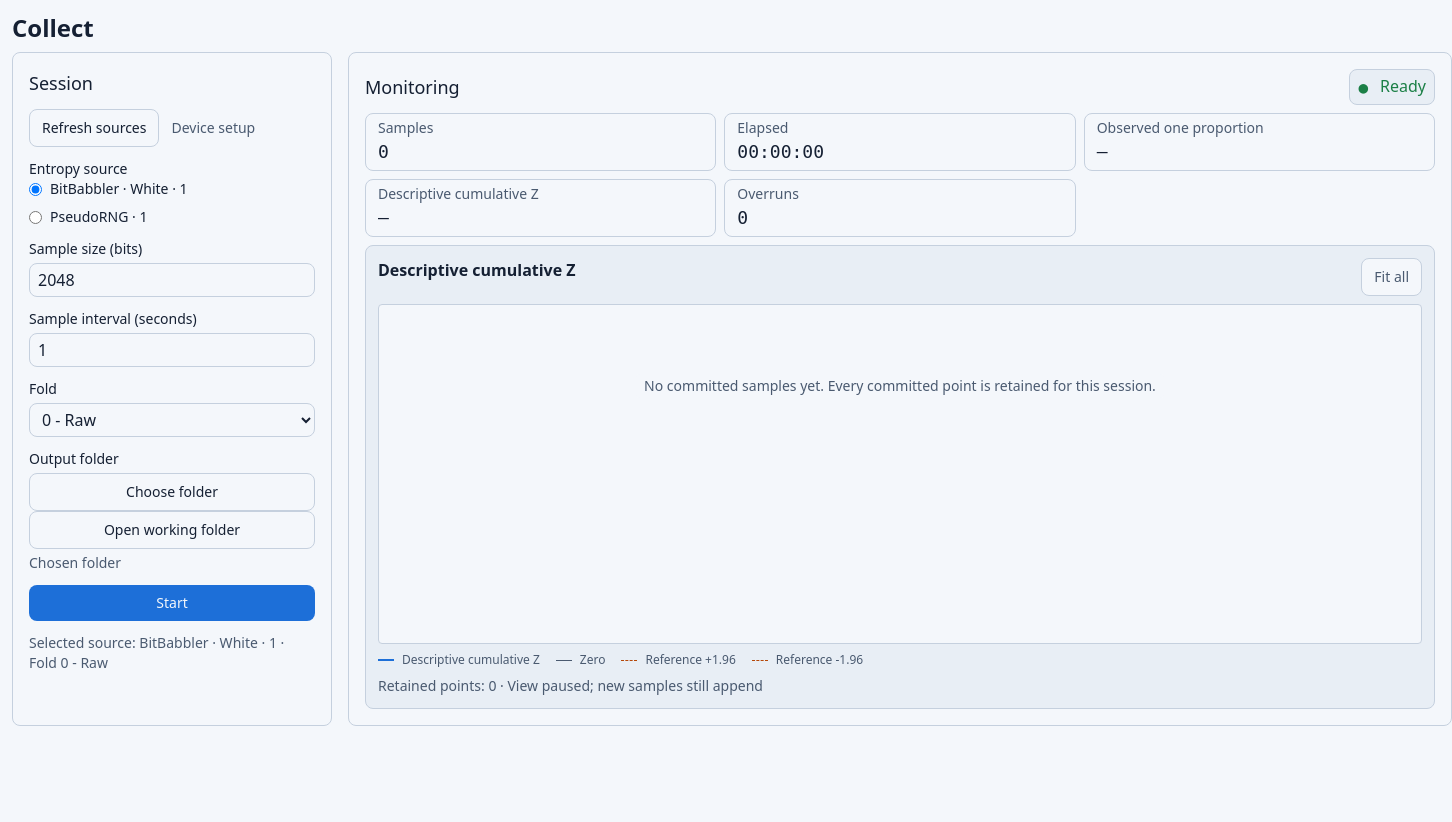
Scenario: CollectionControls › starts a ready draft and then shows Stop
The width and height of the screenshot is (1452, 822).
Click the button "Start" at (172, 603), box x1=29 y1=585 x2=315 y2=621
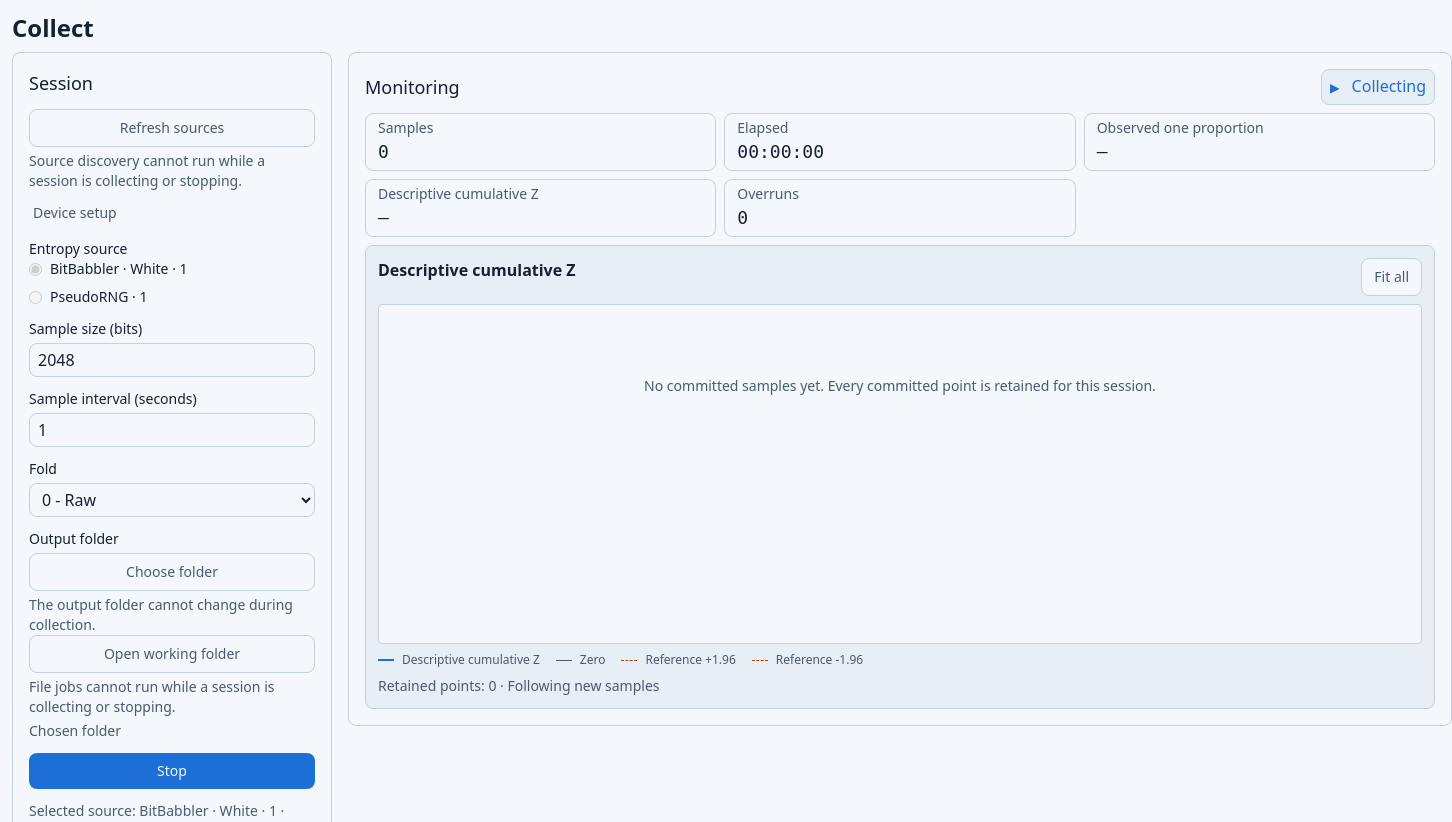
Expected: the button "Stop" is enabled, x1=29 y1=753 x2=315 y2=789
Now the button "Start" is gone
